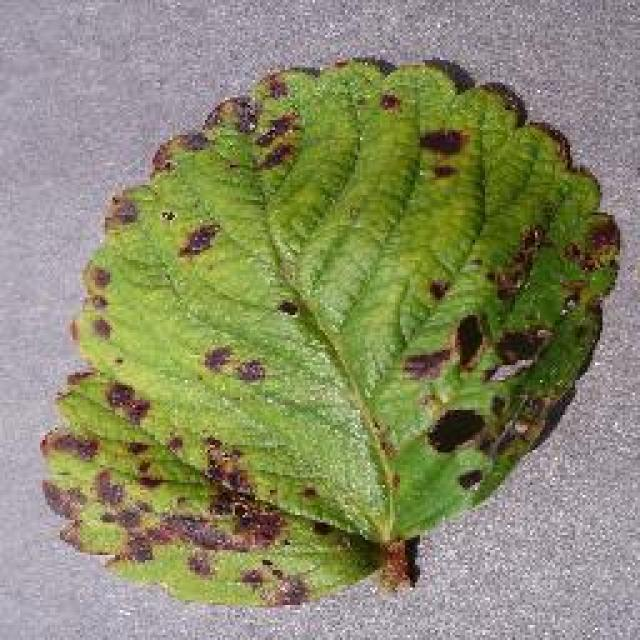Strawberry leaf scorch: (70, 385, 367, 547)
